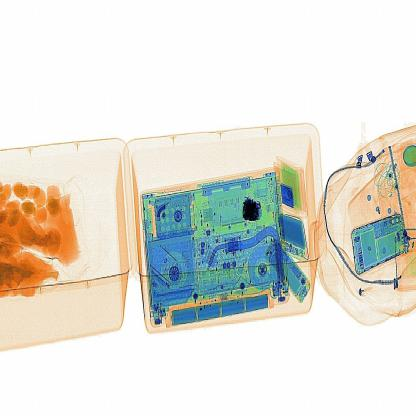scissors: (239, 193, 272, 231)
